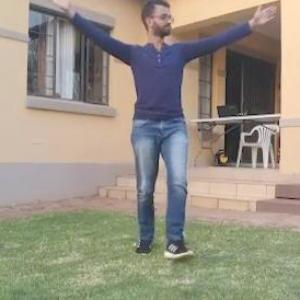takeoff: (63, 0, 298, 278)
